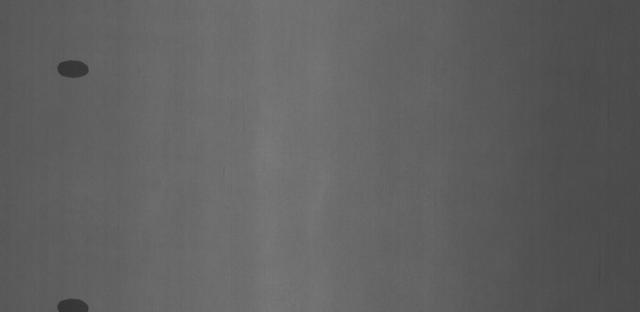oil_spot: (53, 56, 90, 83), (52, 293, 92, 312)
